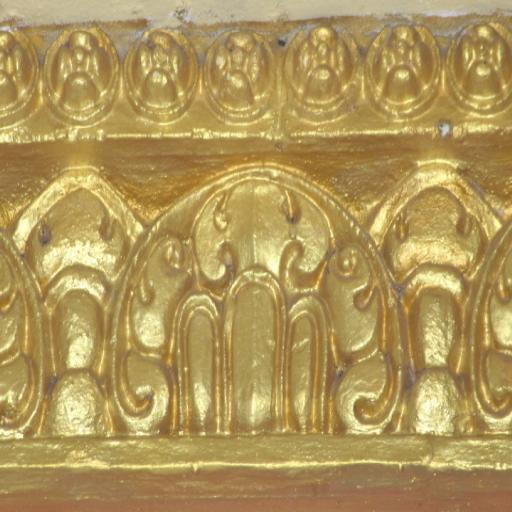hoa: (284, 26, 362, 124), (202, 28, 280, 124), (44, 31, 120, 125), (122, 30, 201, 120), (439, 23, 512, 116), (364, 22, 439, 110), (0, 32, 38, 121)
la: (117, 173, 387, 431), (385, 170, 495, 423), (45, 180, 119, 424)
